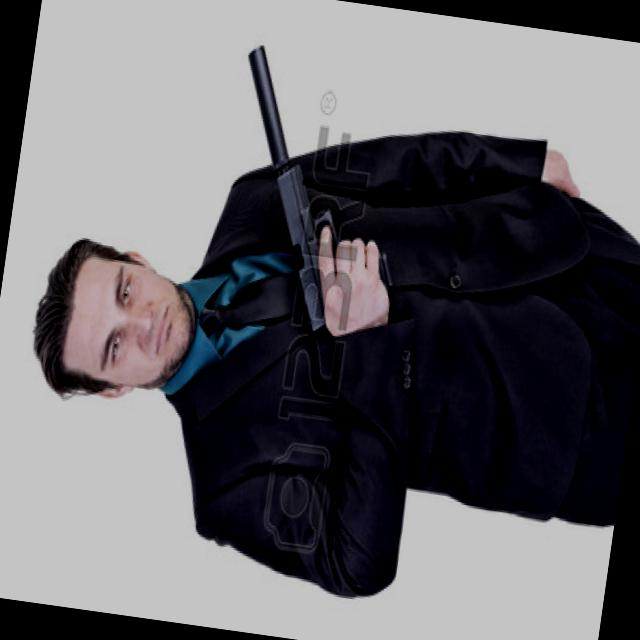handgun: (251, 163, 408, 344)
